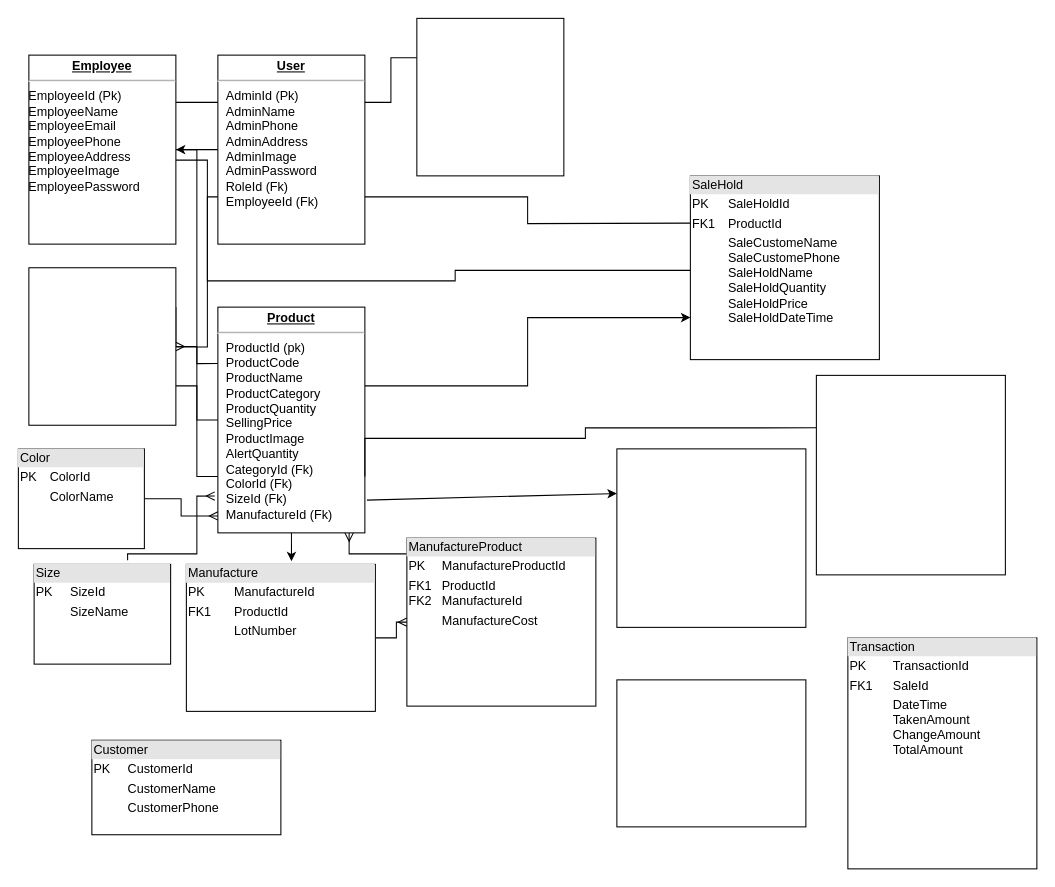
Image size: 1055x887. Some labels were removed from this diagram. The centre of each missing label's shape, as x and y in pixels:
Adjustment PK AdjustmentId FK1 ProductId AdjustmentReason: point (910, 474)
Category CategoryId (Pk) CategoryName: point (102, 346)
ProductSale PK ProductSaleId FK1 ProductId FK2 SaleId SellingPrice Quantity: point (711, 753)
Role RoleId (Pk) RoleName: point (490, 96)
Sale PK SaleId FK1 ProductId FK2 InvoiceNumber Discount CustomerId Vat Total: point (711, 537)
